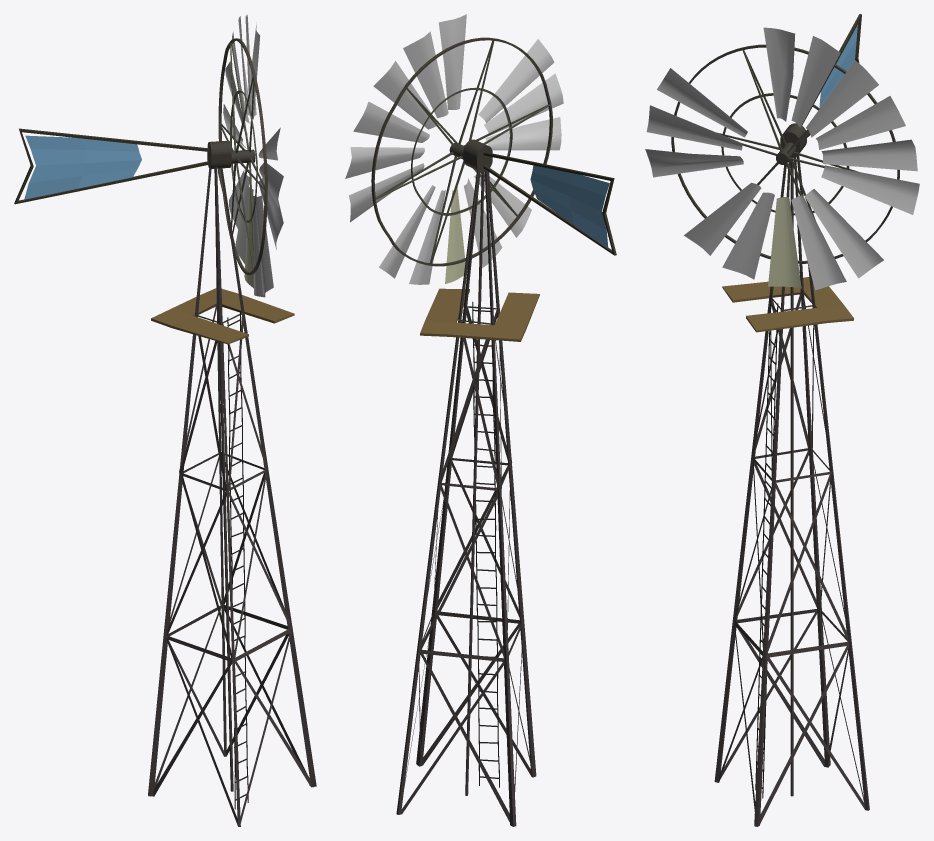
File: windMill.obj
3 views of the same model, side by side, from view 1: azimuth 30°, elevation 25°; view 2: azimuth 150°, elevation 25°; view 3: azimuth 270°, elevation 25° (orthographic).
Parts seen in each view (by area): view 1: tower_Plane.029, tail_sign_Plane.073, spokes_Plane.068, platform_Cube.001, Plane.007_Plane.052, tail_frame_Plane.072, ladder_Circle.003, Plane.016_Plane.061, rotor_hub_Cylinder.001, Plane.003_Plane.048; view 2: tower_Plane.029, Plane.007_Plane.052, spokes_Plane.068, platform_Cube.001, tail_sign_Plane.073, Plane.016_Plane.061, ladder_Circle.003, tail_frame_Plane.072, Plane_Plane.041, Plane.003_Plane.048, Plane.000_Plane.046, rotor_hub_Cylinder.001; view 3: tower_Plane.029, Plane.007_Plane.052, Plane.016_Plane.061, platform_Cube.001, spokes_Plane.068, Plane_Plane.041, Plane.000_Plane.046, Plane.003_Plane.048, ladder_Circle.003, tail_sign_Plane.073, rotor_hub_Cylinder.001.
Boxes of the visible parts, x1,y1,x2,y2 form: tower_Plane.029: [148, 166, 316, 826]; tail_sign_Plane.073: [24, 135, 141, 199]; spokes_Plane.068: [218, 38, 267, 274]; platform_Cube.001: [151, 288, 294, 344]; Plane.007_Plane.052: [225, 14, 283, 249]; tail_frame_Plane.072: [14, 128, 209, 204]; ladder_Circle.003: [227, 311, 248, 809]; Plane.016_Plane.061: [223, 104, 253, 263]; rotor_hub_Cylinder.001: [207, 140, 255, 168]; Plane.003_Plane.048: [254, 195, 273, 295]; tower_Plane.029: [396, 170, 536, 826]; Plane.007_Plane.052: [345, 14, 563, 178]; spokes_Plane.068: [371, 37, 552, 266]; platform_Cube.001: [420, 288, 539, 341]; tail_sign_Plane.073: [530, 165, 609, 248]; Plane.016_Plane.061: [348, 163, 445, 284]; ladder_Circle.003: [472, 301, 499, 787]; tail_frame_Plane.072: [483, 152, 616, 255]; Plane_Plane.041: [445, 187, 465, 283]; Plane.003_Plane.048: [474, 172, 531, 237]; Plane.000_Plane.046: [464, 178, 502, 267]; rotor_hub_Cylinder.001: [449, 139, 492, 172]; tower_Plane.029: [714, 155, 869, 826]; Plane.007_Plane.052: [645, 27, 917, 177]; Plane.016_Plane.061: [791, 165, 919, 290]; platform_Cube.001: [722, 277, 853, 332]; spokes_Plane.068: [671, 44, 899, 263]; Plane_Plane.041: [768, 197, 801, 288]; Plane.000_Plane.046: [722, 192, 774, 279]; Plane.003_Plane.048: [684, 182, 761, 255]; ladder_Circle.003: [755, 295, 778, 798]; tail_sign_Plane.073: [819, 24, 857, 107]; rotor_hub_Cylinder.001: [776, 123, 806, 164].
Bounding box in the file's own units: 1.95 × 5.68 × 1.82.
